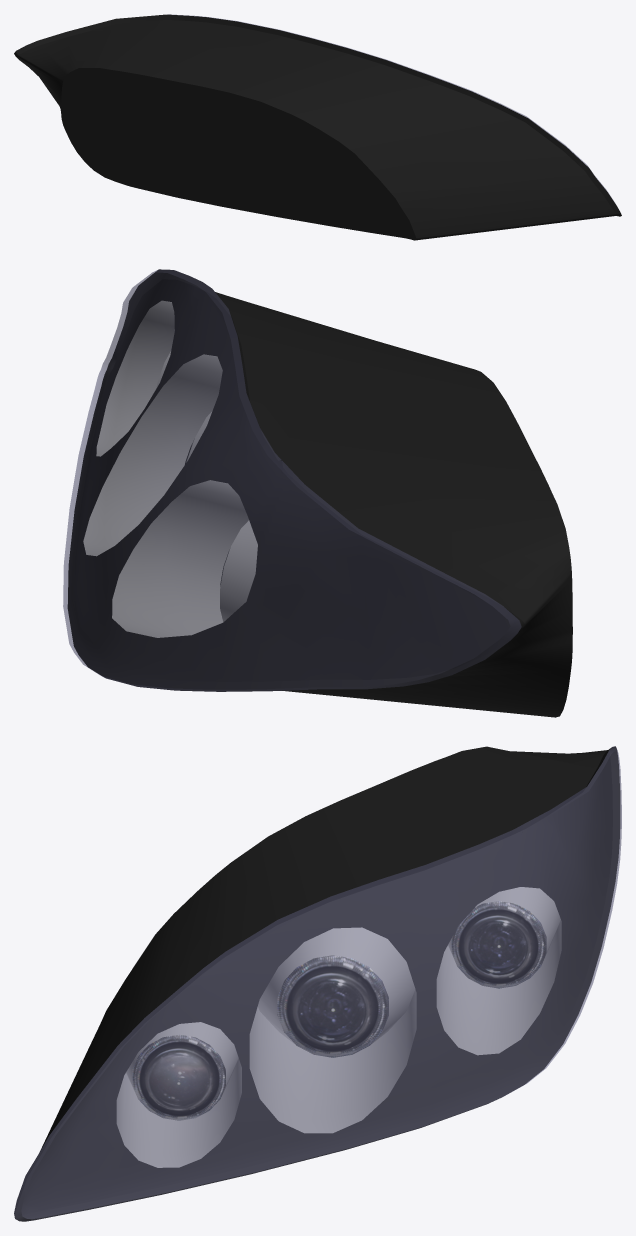
The picture shows the model from 3 angles, top to bottom: view 1: azimuth 30°, elevation 25°; view 2: azimuth 150°, elevation 25°; view 3: azimuth 270°, elevation 25°; orthographic projection. The views are drawn at different scales.
Visible parts, largest first — view 1: D160_061B_L_D160_061B_L_5_N, D160_061B_L_D160_061B_L_6_DTaSI; view 2: D160_061B_L_D160_061B_L_5_N, D160_061B_L_D160_061B_L_6_DTaSI, D160_061B_L_D160_061B_L_4_N; view 3: D160_061B_L_D160_061B_L_6_DTaSI, D160_061B_L_D160_061B_L_5_N, D160_061B_L_D160_061B_L_4_N, D160_061B_L_1_N_D160_061B_L, D160_061B_L_D160_061B_L_3_N, D160_061B_L_D160_061B_L_2_N.
Part boxes in pixels (x1=…): D160_061B_L_D160_061B_L_5_N: x1=14, y1=14, x2=621, y2=240; D160_061B_L_D160_061B_L_6_DTaSI: x1=168, y1=14, x2=615, y2=203; D160_061B_L_D160_061B_L_5_N: x1=67, y1=269, x2=572, y2=717; D160_061B_L_D160_061B_L_6_DTaSI: x1=63, y1=269, x2=521, y2=691; D160_061B_L_D160_061B_L_4_N: x1=83, y1=300, x2=257, y2=637; D160_061B_L_D160_061B_L_6_DTaSI: x1=14, y1=746, x2=621, y2=1221; D160_061B_L_D160_061B_L_5_N: x1=14, y1=746, x2=620, y2=1221; D160_061B_L_D160_061B_L_4_N: x1=116, y1=887, x2=561, y2=1167; D160_061B_L_1_N_D160_061B_L: x1=277, y1=955, x2=388, y2=1057; D160_061B_L_D160_061B_L_3_N: x1=451, y1=901, x2=546, y2=988; D160_061B_L_D160_061B_L_2_N: x1=132, y1=1034, x2=225, y2=1120.
Bounding box in the file's own units: 53.39 × 17.61 × 45.99.
